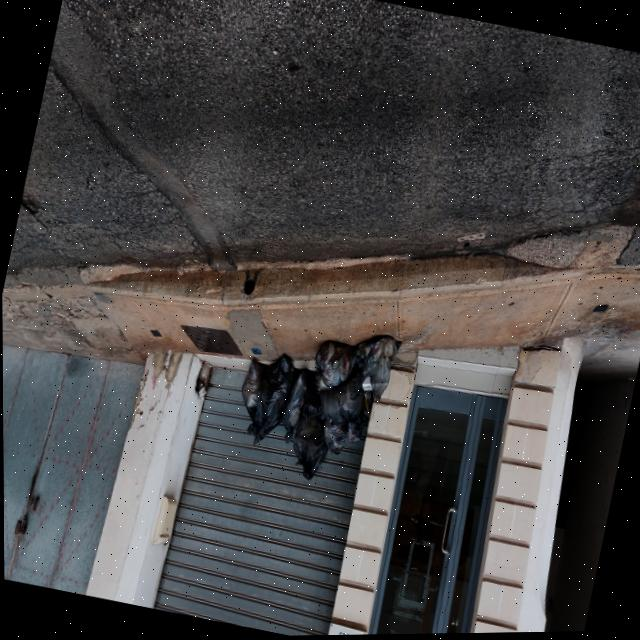Mixed Waste -Black Bag-: (247, 351, 299, 448), (342, 329, 405, 409), (314, 364, 379, 430), (229, 357, 275, 446), (285, 413, 333, 483), (275, 367, 313, 446), (307, 338, 357, 398), (316, 406, 367, 461), (298, 373, 331, 424)
